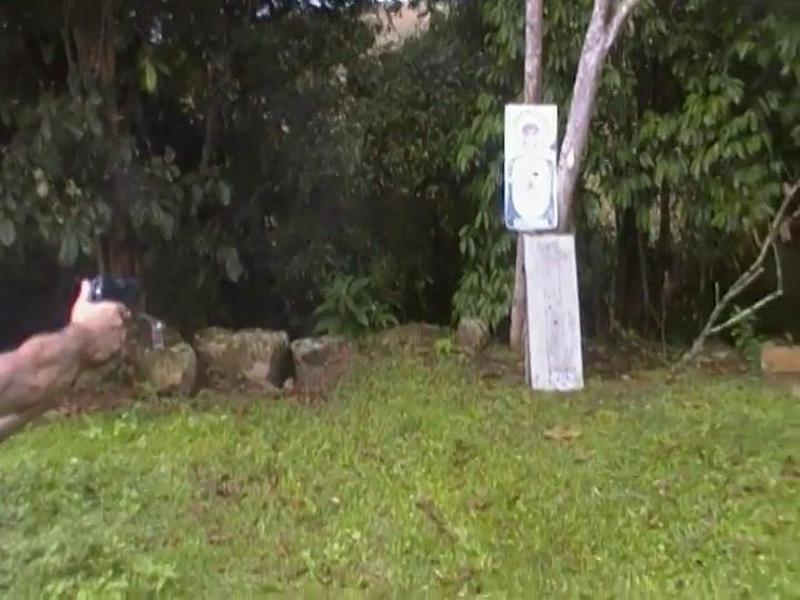Pistola: (76, 267, 168, 337)
